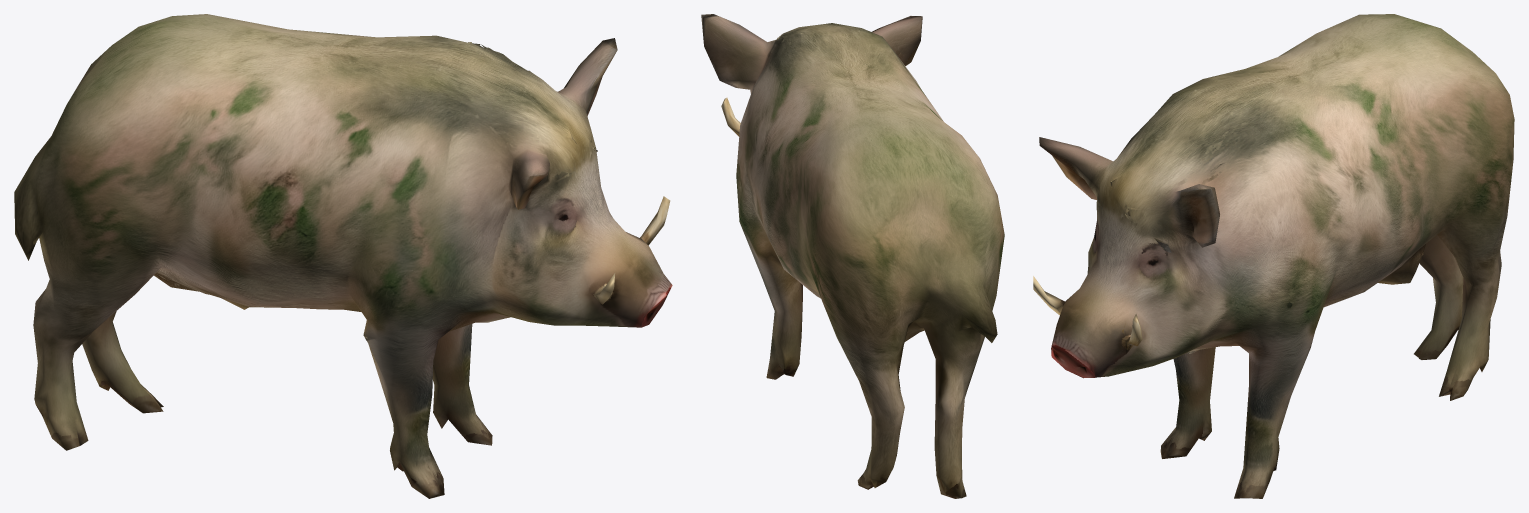
The model's file is zoglin_single_1500.glb.
3 views of the same model, side by side, from view 1: azimuth 30°, elevation 25°; view 2: azimuth 150°, elevation 25°; view 3: azimuth 270°, elevation 25° (orthographic). The views are drawn at different scales.
Size of the model in its own units: 0.882 by 0.7073 by 0.8175.
1 material, 1 textured.
